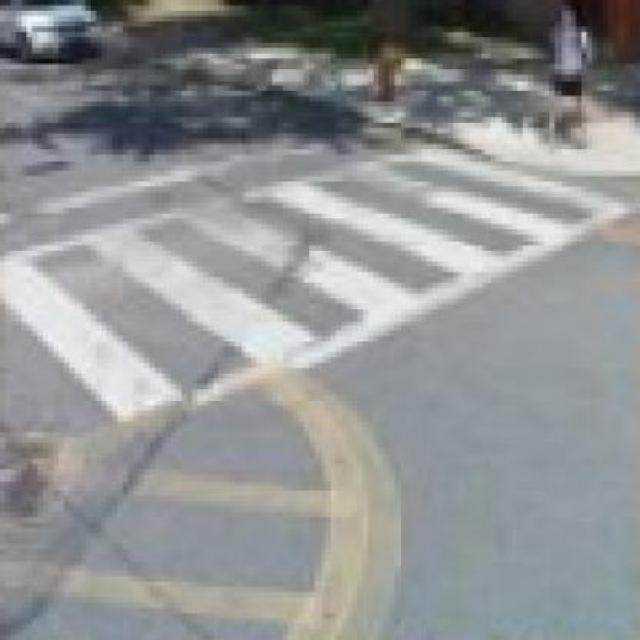crosswalk: (1, 145, 626, 432)
